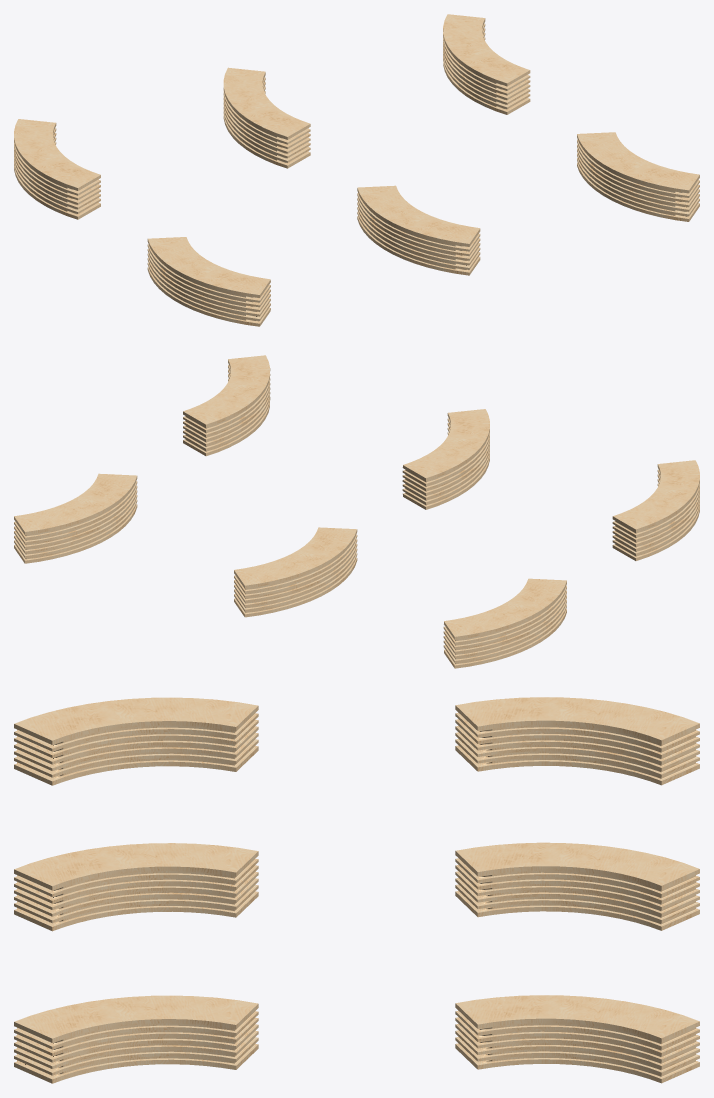
The model's file is Seating.fbx.
3 views of the same model, one above another, from view 1: azimuth 30°, elevation 25°; view 2: azimuth 150°, elevation 25°; view 3: azimuth 270°, elevation 25° (orthographic). The views are drawn at different scales.
Parts seen in each view (by area): view 1: MeshBaker__0__mesh_mesh; view 2: MeshBaker__0__mesh_mesh; view 3: MeshBaker__0__mesh_mesh.
Boxes of the visible parts, x1,y1,x2,y2 form: MeshBaker__0__mesh_mesh: (14, 14, 699, 326); MeshBaker__0__mesh_mesh: (14, 355, 699, 668); MeshBaker__0__mesh_mesh: (14, 697, 699, 1083).
Bounding box in the file's own units: 898 × 55.49 × 763.
